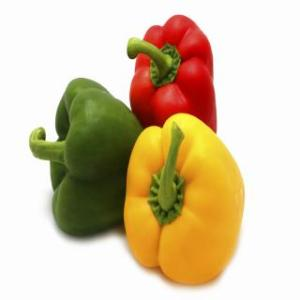bell_pepper: (122, 112, 248, 286), (28, 72, 144, 241), (122, 13, 225, 141)
